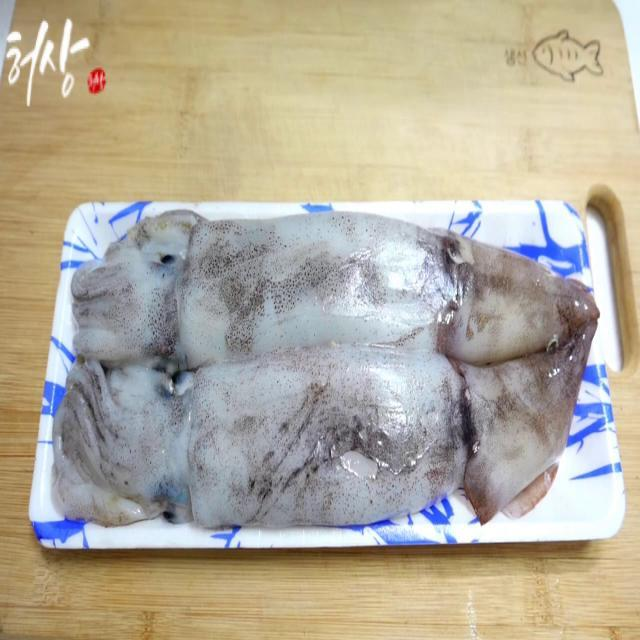squid: (53, 344, 597, 532), (70, 208, 600, 360)
